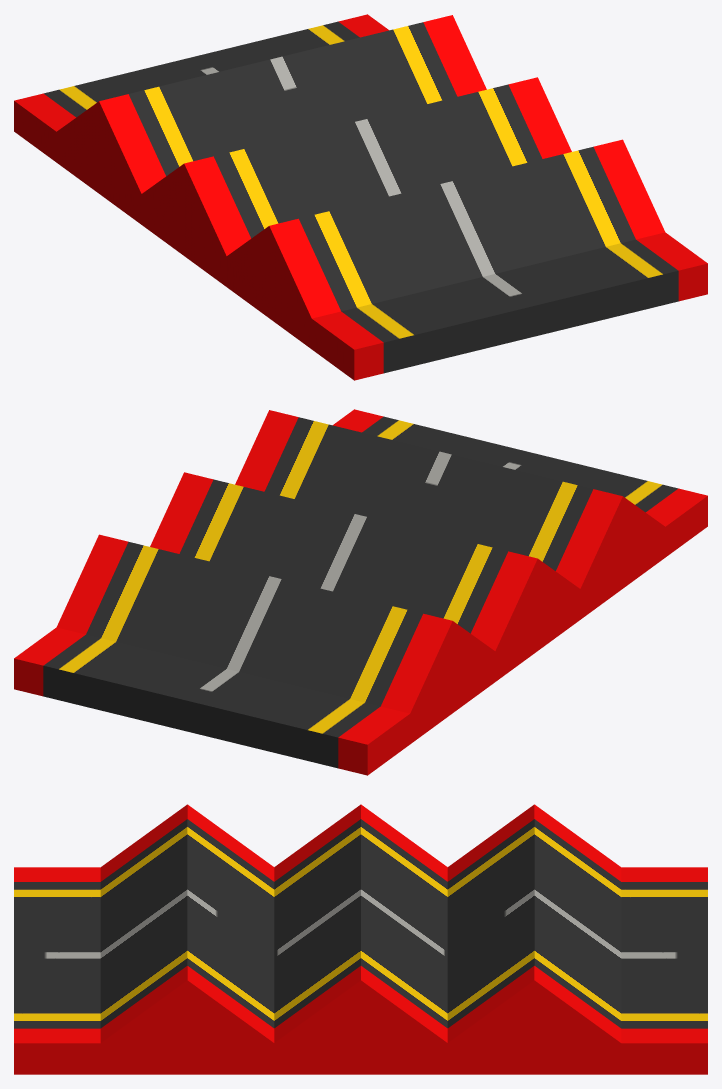
Rendered from Track04.fbx.
The picture shows the model from 3 angles, top to bottom: view 1: azimuth 30°, elevation 25°; view 2: azimuth 150°, elevation 25°; view 3: azimuth 270°, elevation 25°; orthographic projection.
Visible parts, largest first — view 1: Track4; view 2: Track4; view 3: Track4.
Part boxes in pixels (x1,y1,x2,y2): Track4: [14, 14, 707, 380]; Track4: [14, 409, 707, 775]; Track4: [14, 804, 707, 1074].
Size of the model in its own units: 1200 by 300 by 2000.
